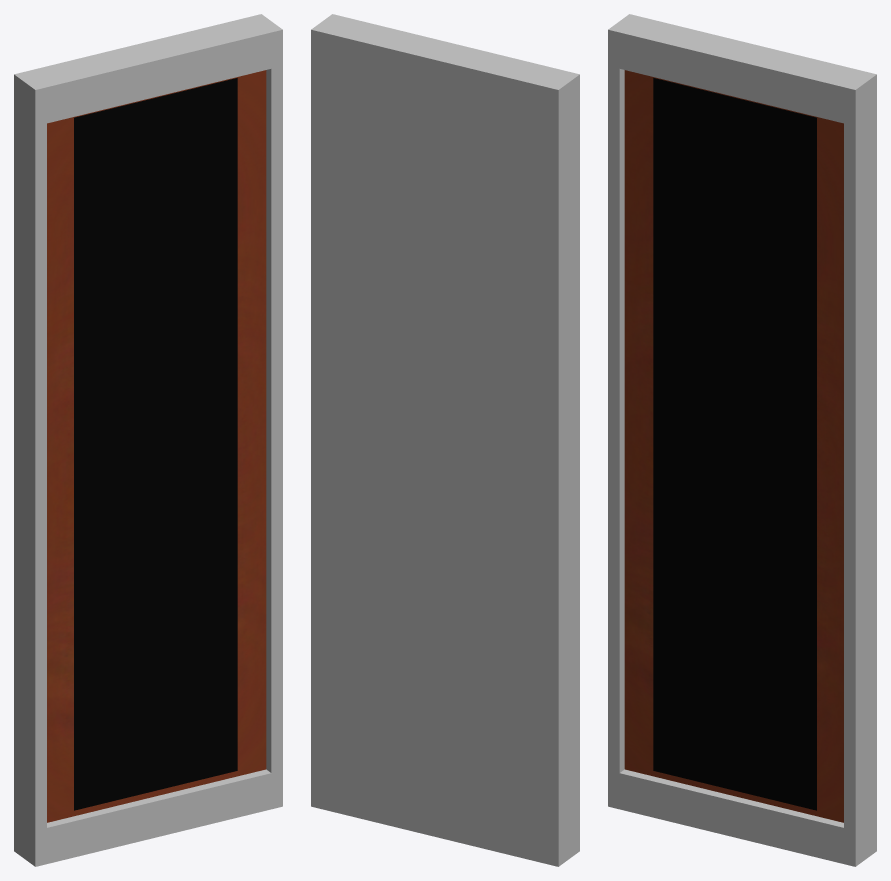
Rendered from IzakayaV.fbx.
3 views of the same model, side by side, from view 1: azimuth 30°, elevation 25°; view 2: azimuth 150°, elevation 25°; view 3: azimuth 330°, elevation 25° (orthographic).
Parts seen in each view (by area): view 1: IzakayaVT, IzakayaV, IzakayaVR; view 2: IzakayaV; view 3: IzakayaVT, IzakayaV, IzakayaVR.
Part boxes in pixels (x1=…): IzakayaVT: x1=74, y1=78, x2=237, y2=810; IzakayaV: x1=14, y1=14, x2=282, y2=866; IzakayaVR: x1=47, y1=70, x2=266, y2=822; IzakayaV: x1=311, y1=14, x2=579, y2=866; IzakayaVT: x1=653, y1=78, x2=816, y2=810; IzakayaV: x1=608, y1=14, x2=876, y2=866; IzakayaVR: x1=624, y1=70, x2=843, y2=822.
Size of the model in its own units: 100 by 300 by 15.
